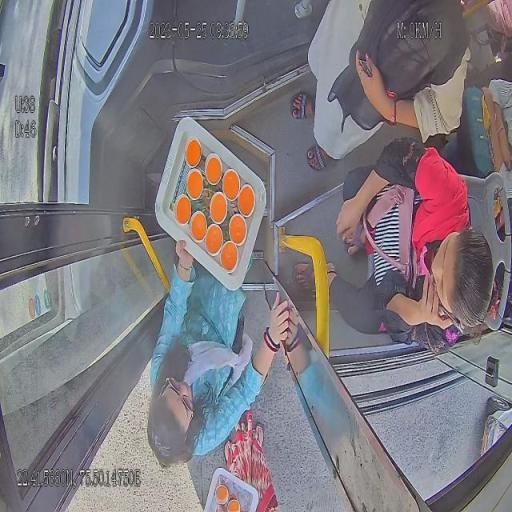persona: (293, 136, 498, 354), (147, 239, 295, 469), (290, 0, 472, 172), (224, 409, 278, 511)
